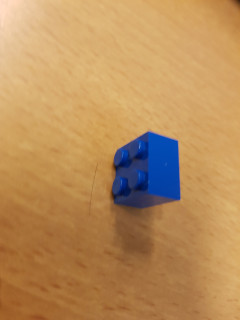2x2 blue: (111, 130, 182, 210)
